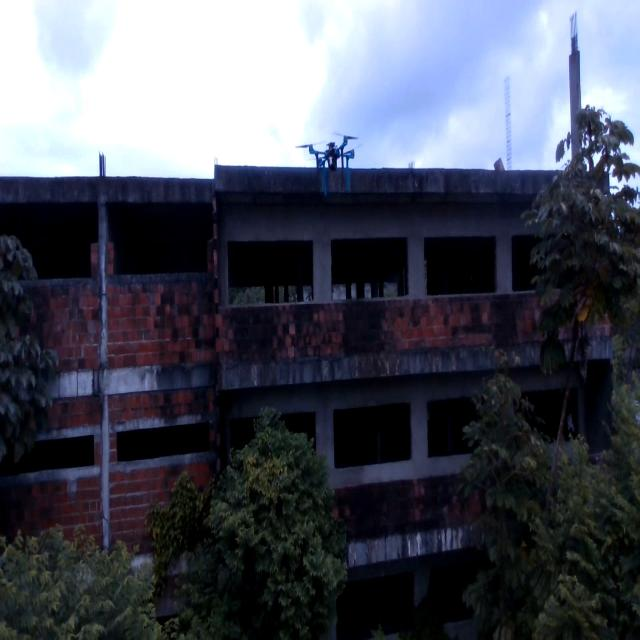-uav-: (297, 114, 369, 199)
